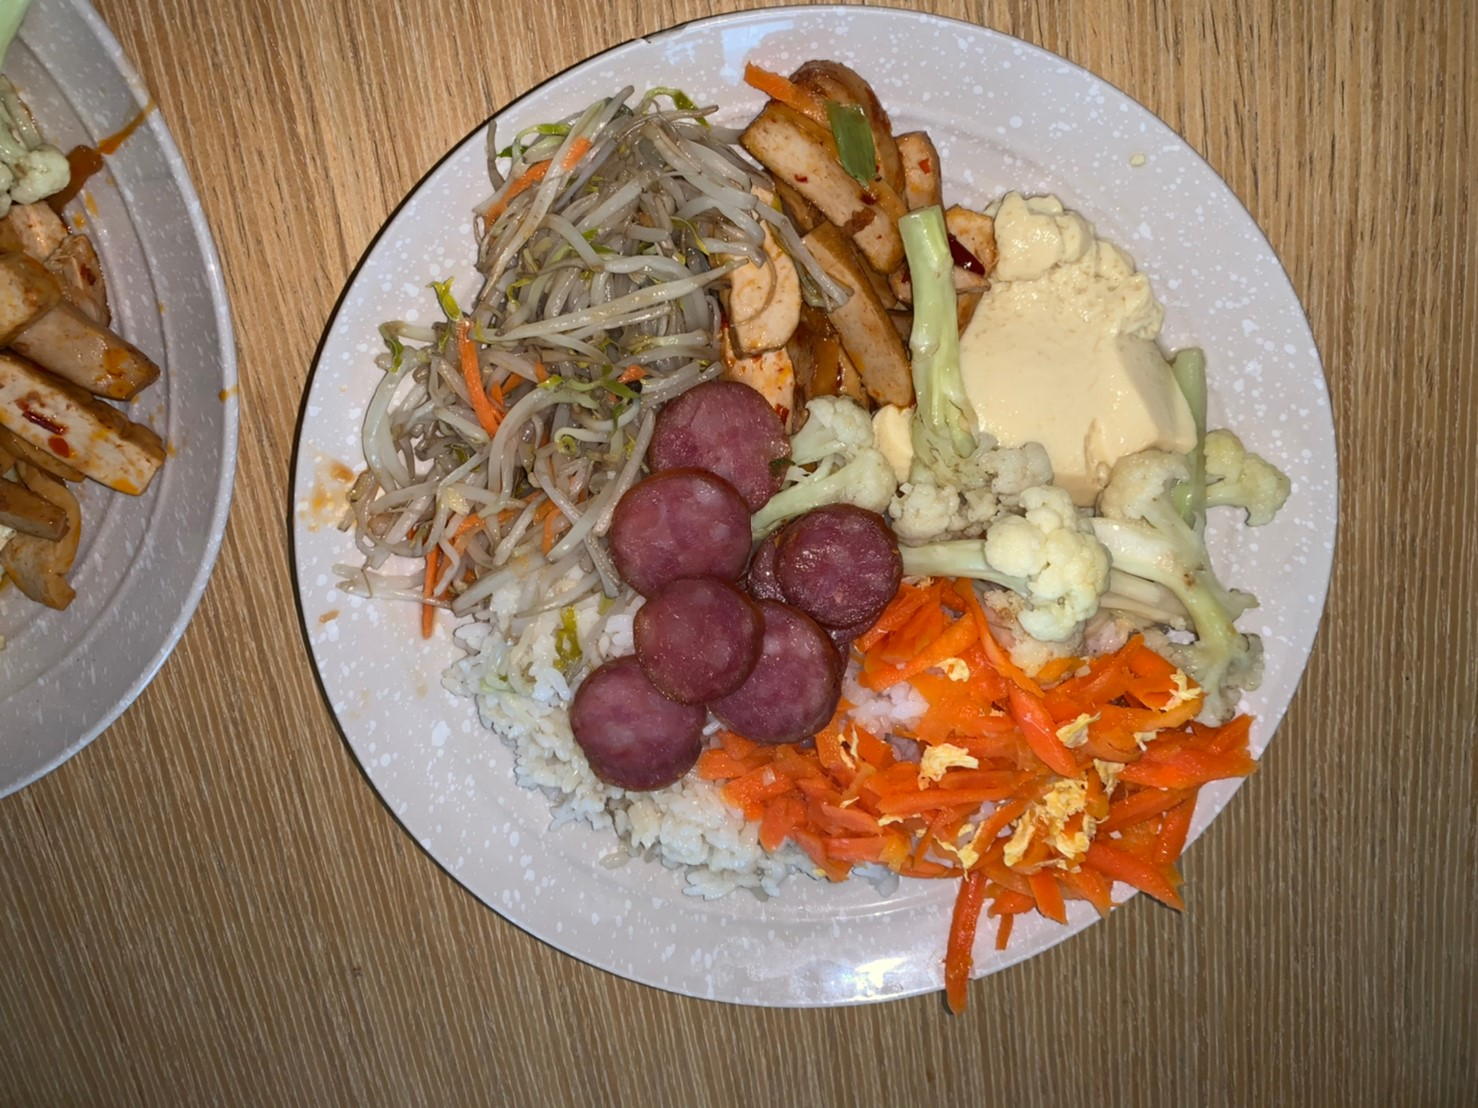carrot_eggs: (802, 580, 1215, 921)
chinese_sausage: (574, 378, 909, 790)
mung_bean_sprouts: (372, 95, 752, 547)
